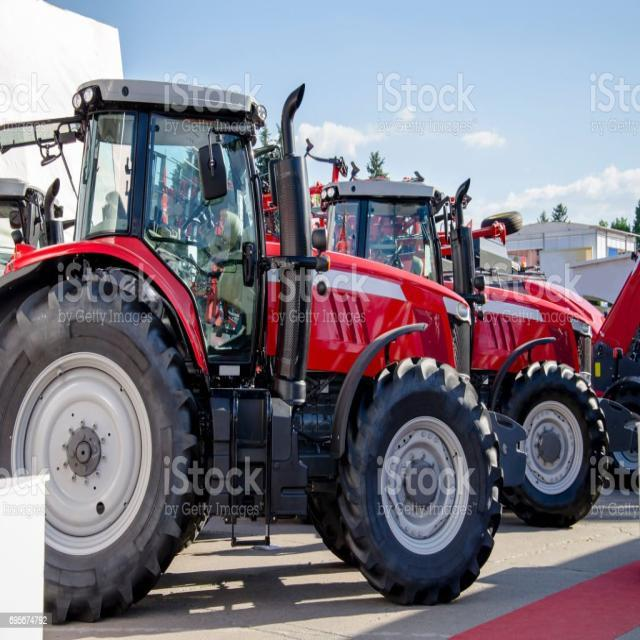Tratores - v5 YOLO V8L 2024-11-13: (0, 47, 509, 640), (499, 247, 640, 564)
